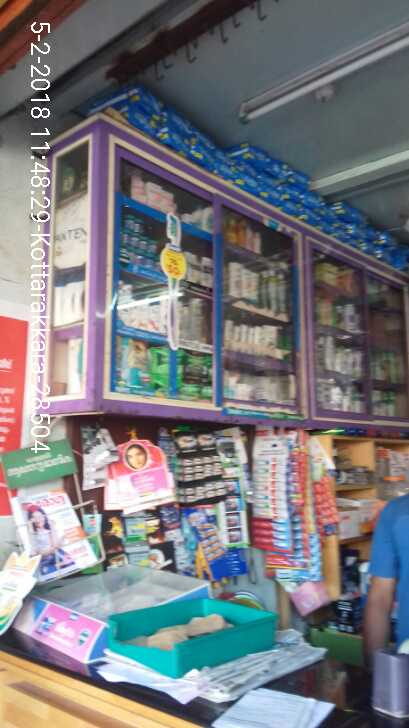vicks: (118, 213, 160, 273)
